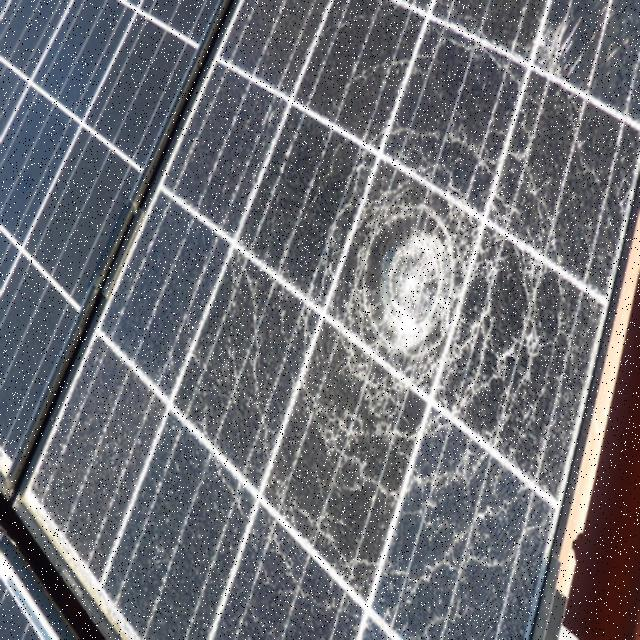physical damage: (248, 26, 609, 577)
